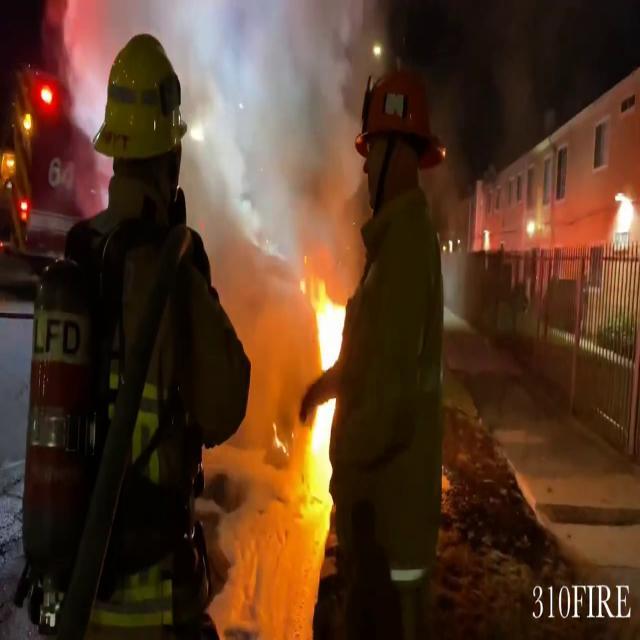Fire: (299, 264, 350, 520)
Smoke: (53, 0, 413, 278)
